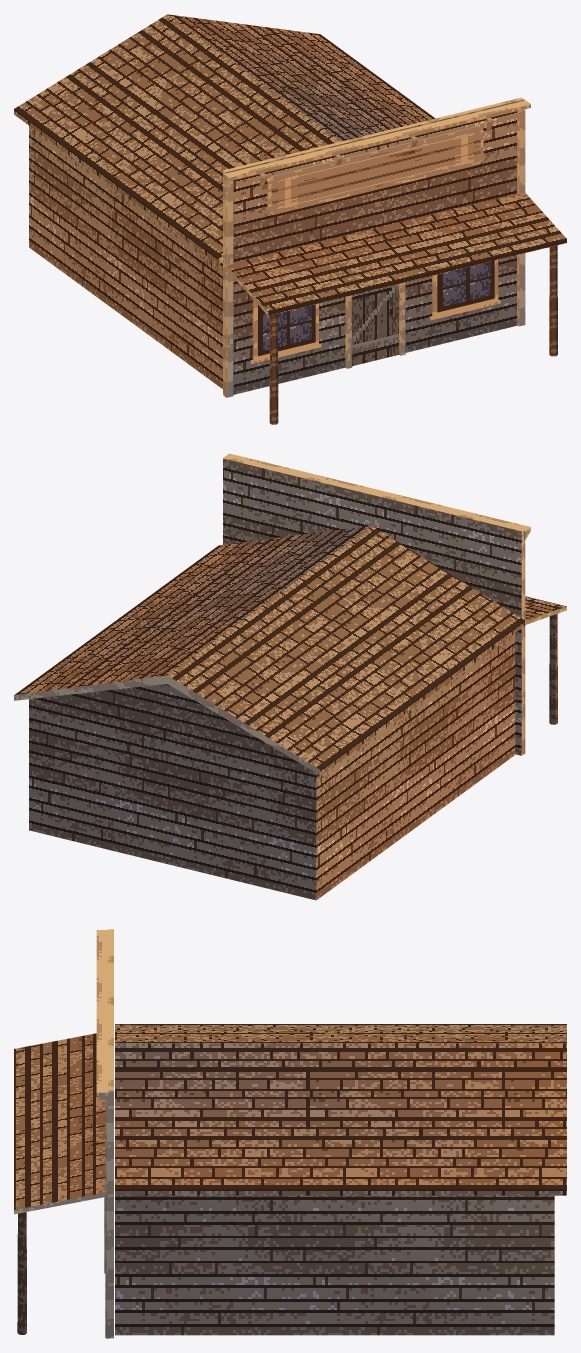
Rendered from wtown.store.glb.
3 renders of one model, top to bottom at view 1: azimuth 30°, elevation 25°; view 2: azimuth 150°, elevation 25°; view 3: azimuth 270°, elevation 25°, orthographic. The views are drawn at different scales.
Visible parts, largest first — view 1: kit_roof, kit_front, kit_body, kit_porch, kit_card_panes, kit_trim, kit_windows; view 2: kit_body, kit_roof, kit_front, kit_trim, kit_porch; view 3: kit_roof, kit_body, kit_porch, kit_trim, kit_front.
Boxes of the visible parts, x1,y1,x2,y2 form: kit_roof: (14, 14, 435, 264); kit_front: (223, 97, 524, 395); kit_body: (29, 126, 222, 388); kit_porch: (226, 193, 566, 424); kit_card_panes: (258, 129, 494, 365); kit_trim: (223, 100, 530, 397); kit_windows: (250, 260, 500, 363); kit_body: (29, 633, 515, 900); kit_roof: (14, 525, 524, 775); kit_front: (223, 456, 524, 755); kit_trim: (224, 453, 530, 754); kit_porch: (525, 596, 566, 724); kit_roof: (115, 1024, 566, 1195); kit_body: (115, 1195, 554, 1335); kit_porch: (14, 1033, 105, 1334); kit_trim: (96, 930, 109, 1338); kit_front: (108, 929, 113, 1338).
Size of the model in its own units: 8 by 5.6 by 11.32.
7 materials, 7 textured.
